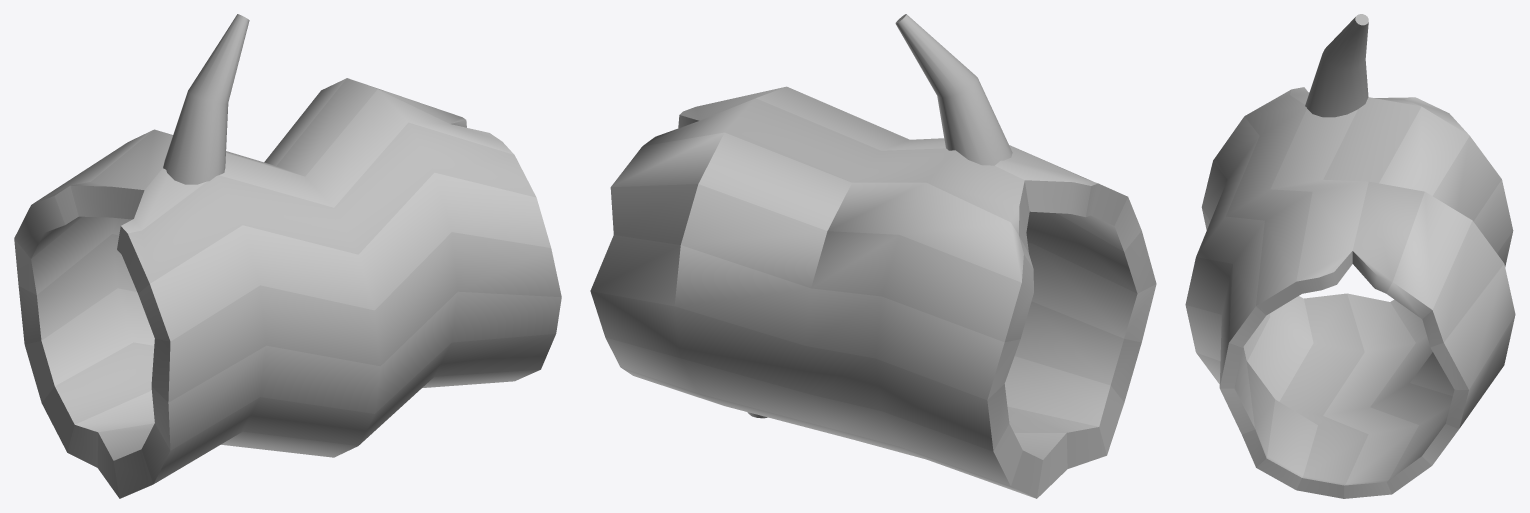
The model's file is Log (2).fbx.
3 views of the same model, side by side, from view 1: azimuth 30°, elevation 25°; view 2: azimuth 150°, elevation 25°; view 3: azimuth 270°, elevation 25° (orthographic). The views are drawn at different scales.
Visible parts, largest first — view 1: Log.001; view 2: Log.001; view 3: Log.001.
Part boxes in pixels (bbox=[...]): Log.001: bbox=[14, 14, 561, 498]; Log.001: bbox=[590, 14, 1156, 498]; Log.001: bbox=[1185, 14, 1515, 498].
Bounding box in the file's own units: 2.02 × 2 × 1.51.
